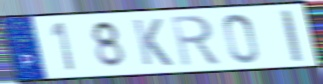0: (221, 11, 261, 65)
1: (49, 21, 78, 73)
8: (91, 20, 128, 70)
I: (278, 8, 305, 64)
K: (130, 17, 175, 68)
R: (169, 13, 224, 69)
